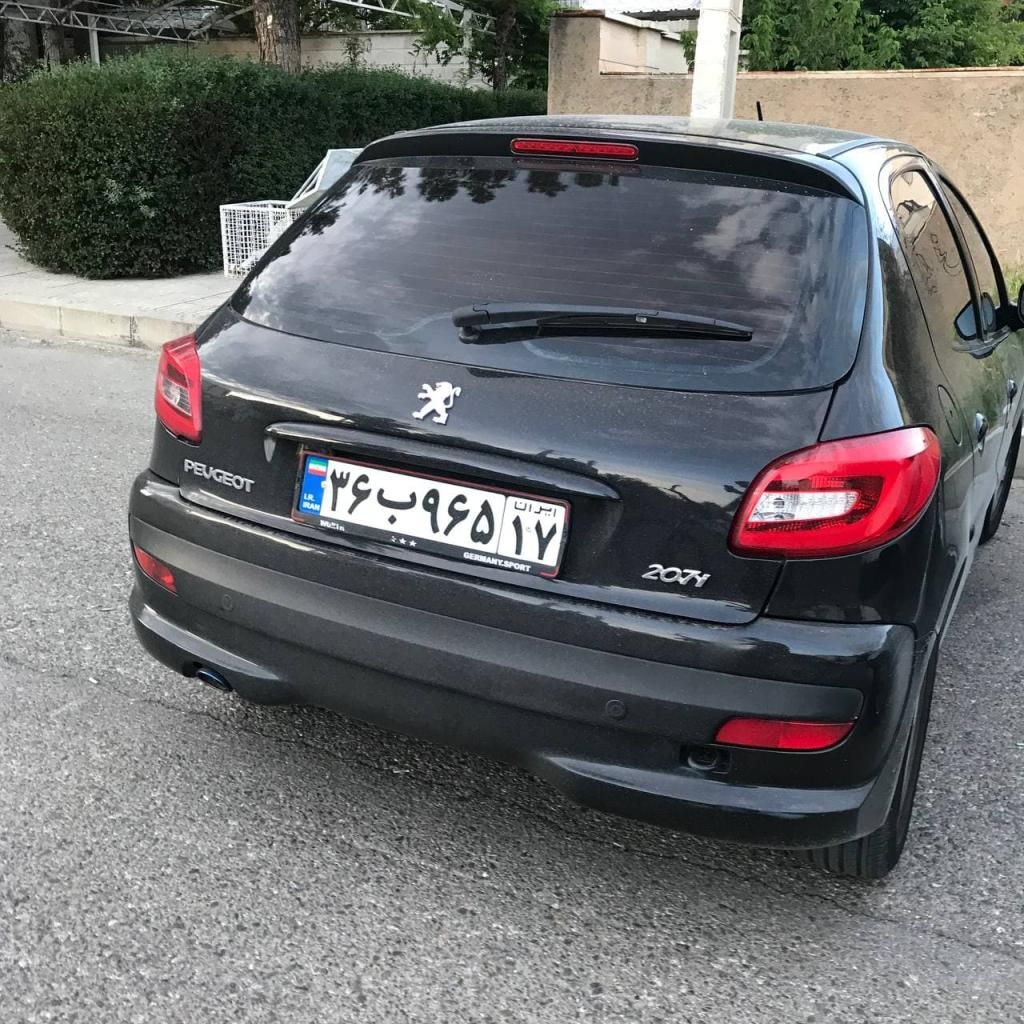Plates: (298, 454, 566, 566)
